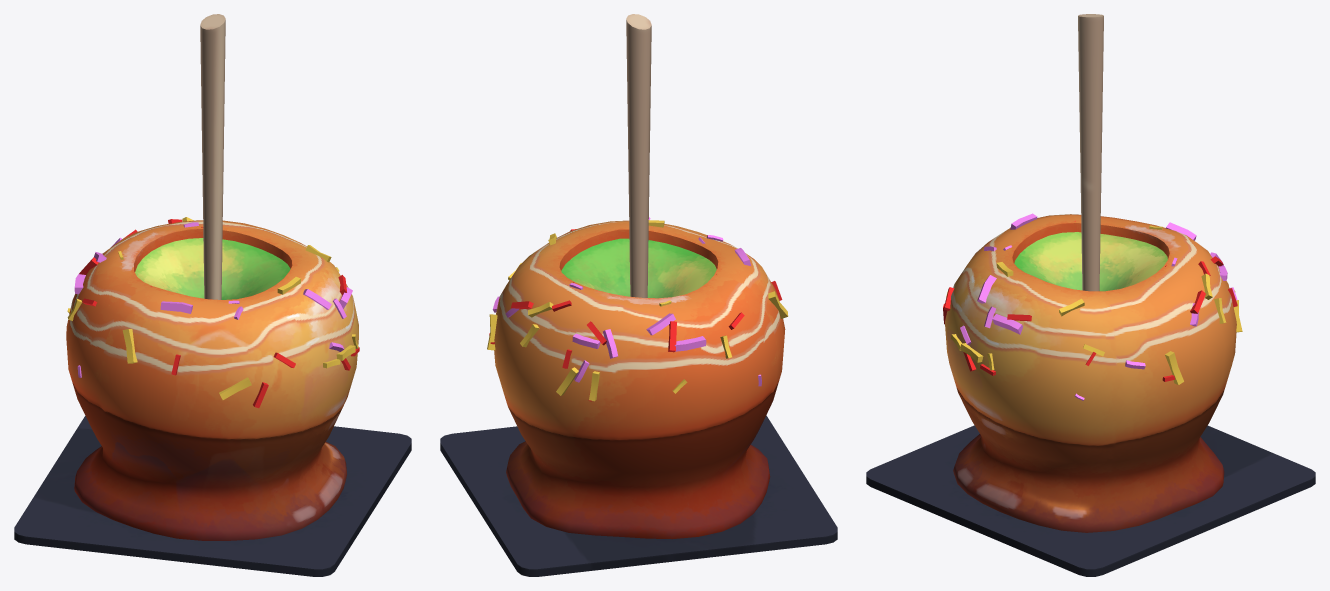
The model's file is 5_2_apple_caramel_2.fbx.
3 renders of one model, left to right at view 1: azimuth 30°, elevation 25°; view 2: azimuth 150°, elevation 25°; view 3: azimuth 270°, elevation 25°, orthographic.
Visible parts, largest first — view 1: Sphere.003, Cube.004, Circle.005; view 2: Sphere.003, Cube.004, Circle.005; view 3: Sphere.003, Cube.004, Circle.005.
Boxes of the visible parts, x1,y1,x2,y2 form: Sphere.003: [66, 217, 359, 540]; Cube.004: [14, 416, 411, 576]; Circle.005: [200, 14, 225, 299]; Sphere.003: [487, 217, 788, 539]; Cube.004: [440, 415, 837, 576]; Circle.005: [626, 14, 651, 297]; Sphere.003: [943, 213, 1242, 532]; Cube.004: [866, 425, 1315, 576]; Circle.005: [1078, 14, 1103, 291].
Bounding box in the file's own units: 3.69 × 4.25 × 3.69.
1 material, 1 textured.
